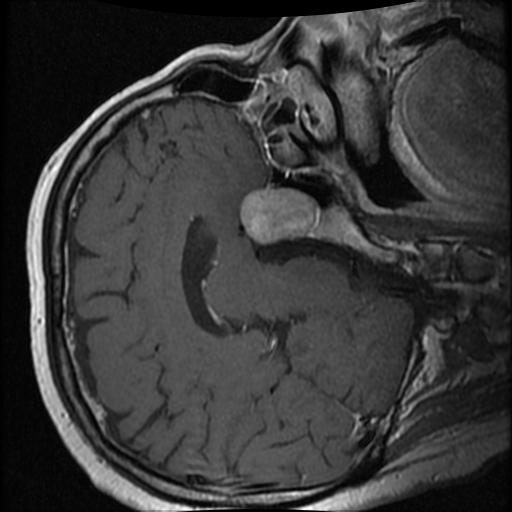pituitary tumour: (240, 186, 319, 244)
